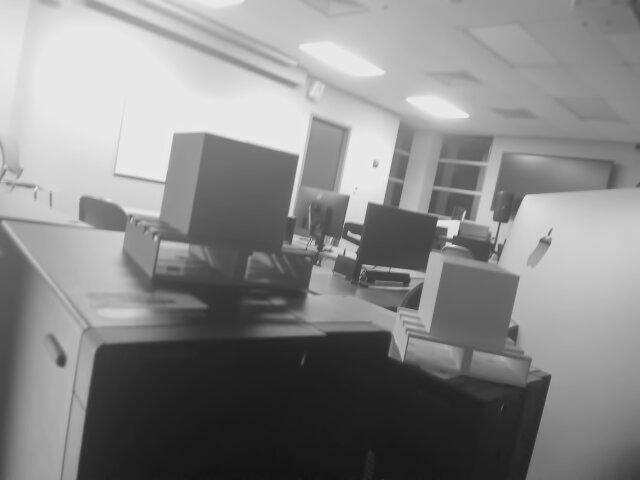grey pallet: (122, 118, 316, 300)
white pallet: (392, 242, 540, 393)
